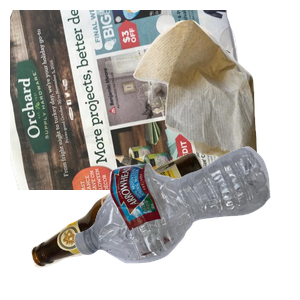glass: (29, 150, 238, 300)
paper: (10, 10, 250, 190)
plastic: (72, 144, 300, 300)
trash: (131, 17, 300, 197)
